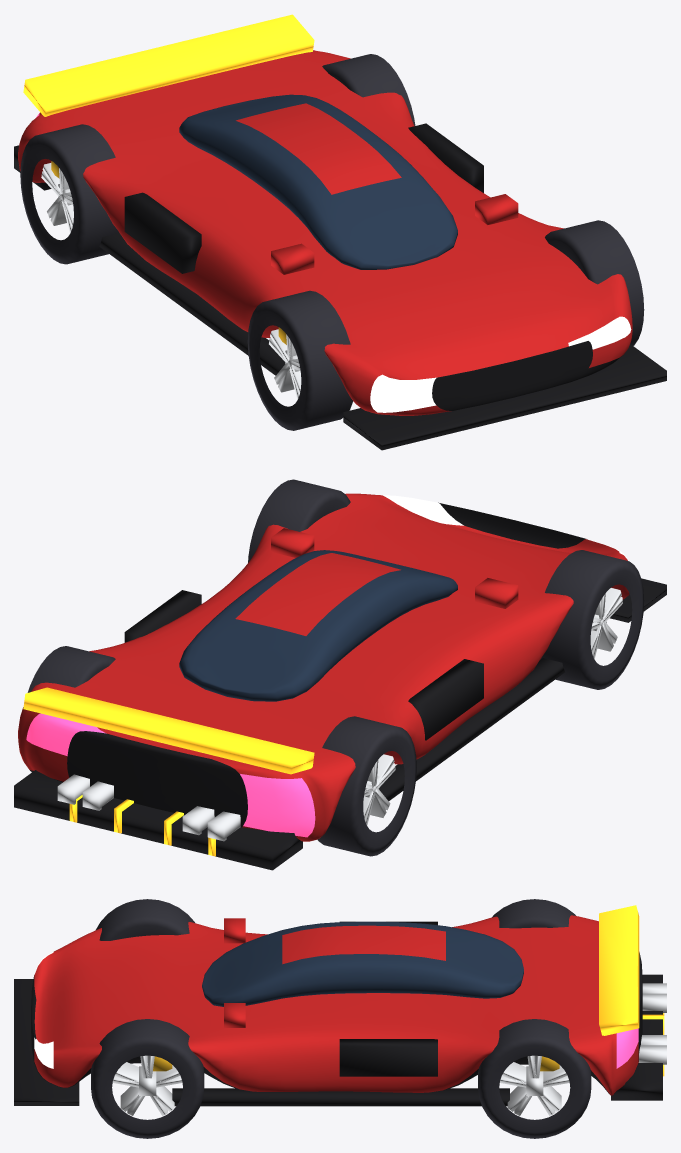
File: buraq_v10.glb
The picture shows the model from 3 angles, top to bottom: view 1: azimuth 30°, elevation 25°; view 2: azimuth 150°, elevation 25°; view 3: azimuth 270°, elevation 25°; orthographic projection. The views are drawn at different scales.
Visible parts, largest first — view 1: Chassis, Wheel_FR, Wheel_RR, Wheel_FL, Wheel_RL; view 2: Chassis, Wheel_FR, Wheel_RR, Wheel_FL, Wheel_RL; view 3: Chassis, Wheel_FL, Wheel_RL, Wheel_FR, Wheel_RR.
Part boxes in pixels (x1,y1,x2,y2): Chassis: (14, 14, 666, 450); Wheel_FR: (247, 290, 353, 430); Wheel_RR: (20, 124, 119, 264); Wheel_FL: (545, 220, 644, 345); Wheel_RL: (322, 54, 415, 125); Chassis: (14, 493, 666, 870); Wheel_FR: (540, 550, 644, 689); Wheel_RR: (317, 716, 416, 856); Wheel_FL: (248, 479, 350, 562); Wheel_RL: (27, 646, 115, 771); Chassis: (14, 905, 666, 1106); Wheel_FL: (91, 1019, 204, 1138); Wheel_RL: (478, 1019, 591, 1138); Wheel_FR: (96, 899, 194, 940); Wheel_RR: (492, 899, 575, 928).
Bounding box in the file's own units: 2.42 × 1.06 × 4.79.
